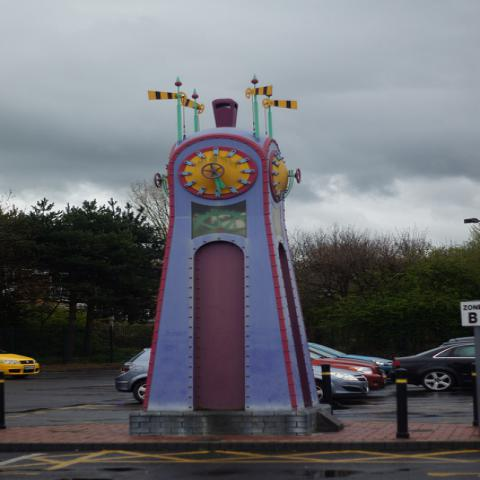car: (111, 348, 371, 406), (386, 340, 476, 390), (308, 346, 387, 388), (308, 343, 392, 370), (0, 349, 41, 376), (448, 336, 475, 342)
